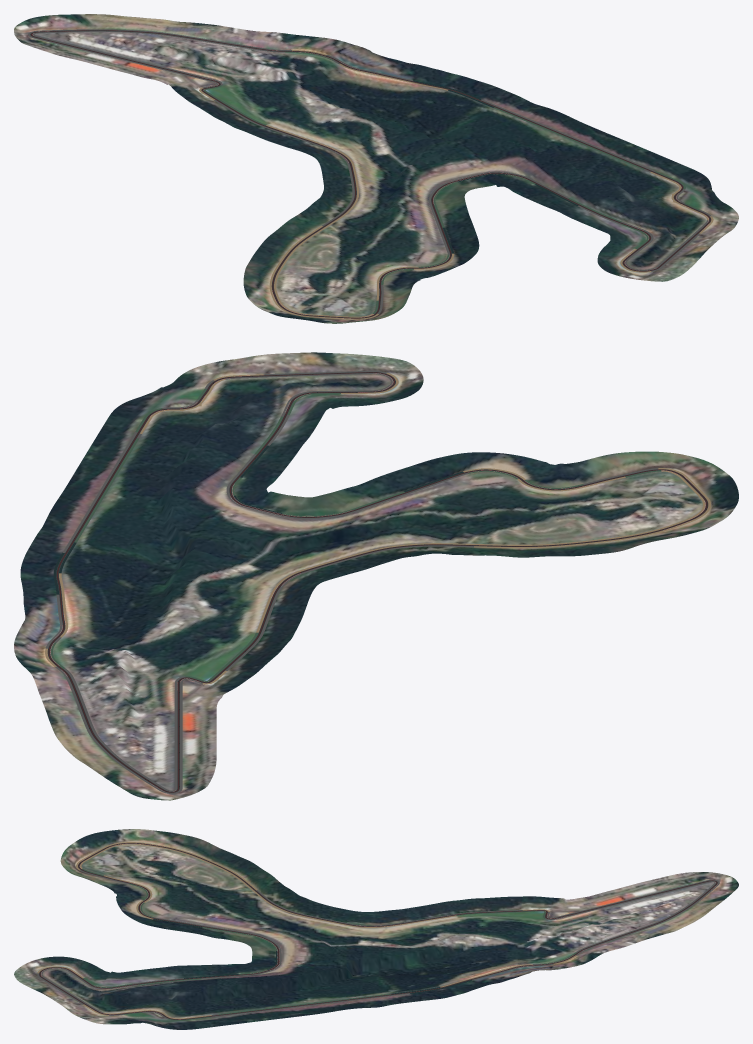
Rendered from spa_plano.dae.
The picture shows the model from 3 angles, top to bottom: view 1: azimuth 30°, elevation 25°; view 2: azimuth 150°, elevation 25°; view 3: azimuth 270°, elevation 25°; orthographic projection. The views are drawn at different scales.
Parts seen in each view (by area): view 1: spa; view 2: spa; view 3: spa.
Part boxes in pixels (<box>): spa: <box>14,14,738,323</box>; spa: <box>14,352,738,800</box>; spa: <box>14,829,738,1029</box>.
Bounding box in the file's own units: 670 × 1041 × 23.
14 materials, 14 textured.
